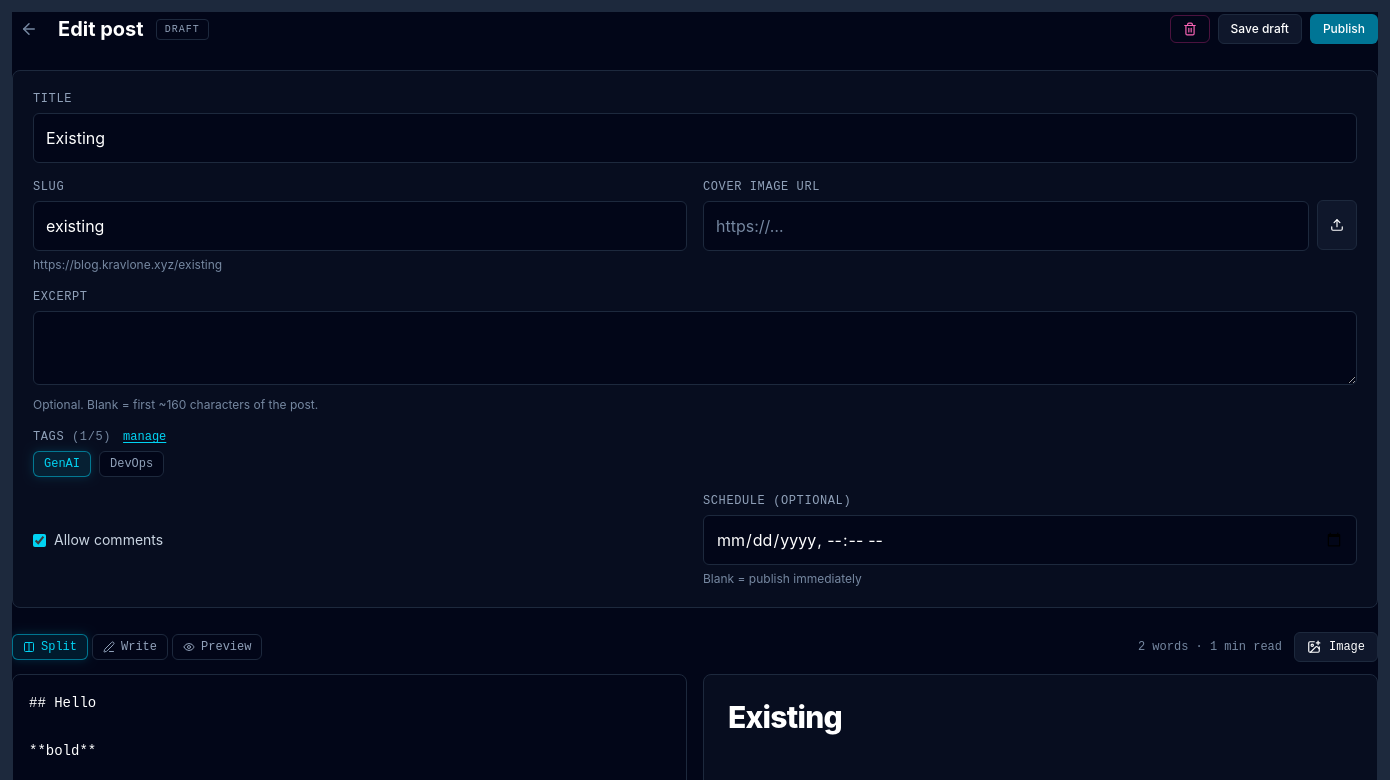
PostEditor › publish saves pending edits first, then publishes
Type "!" into the field labelled "Title". click: point(695, 138)
box: 33,113 -> 1357,163
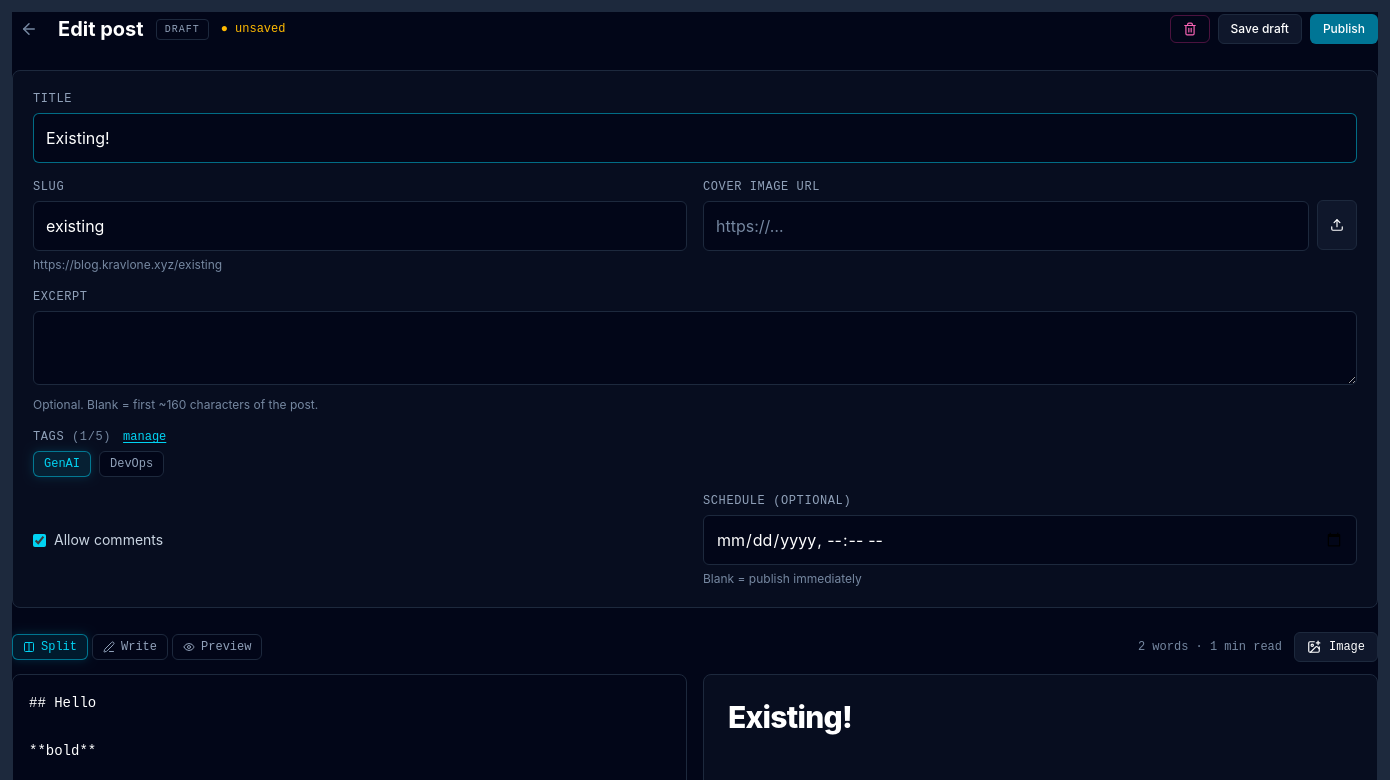
Click the button "Publish". click: point(1344, 29)
box: 1310,14 -> 1378,44
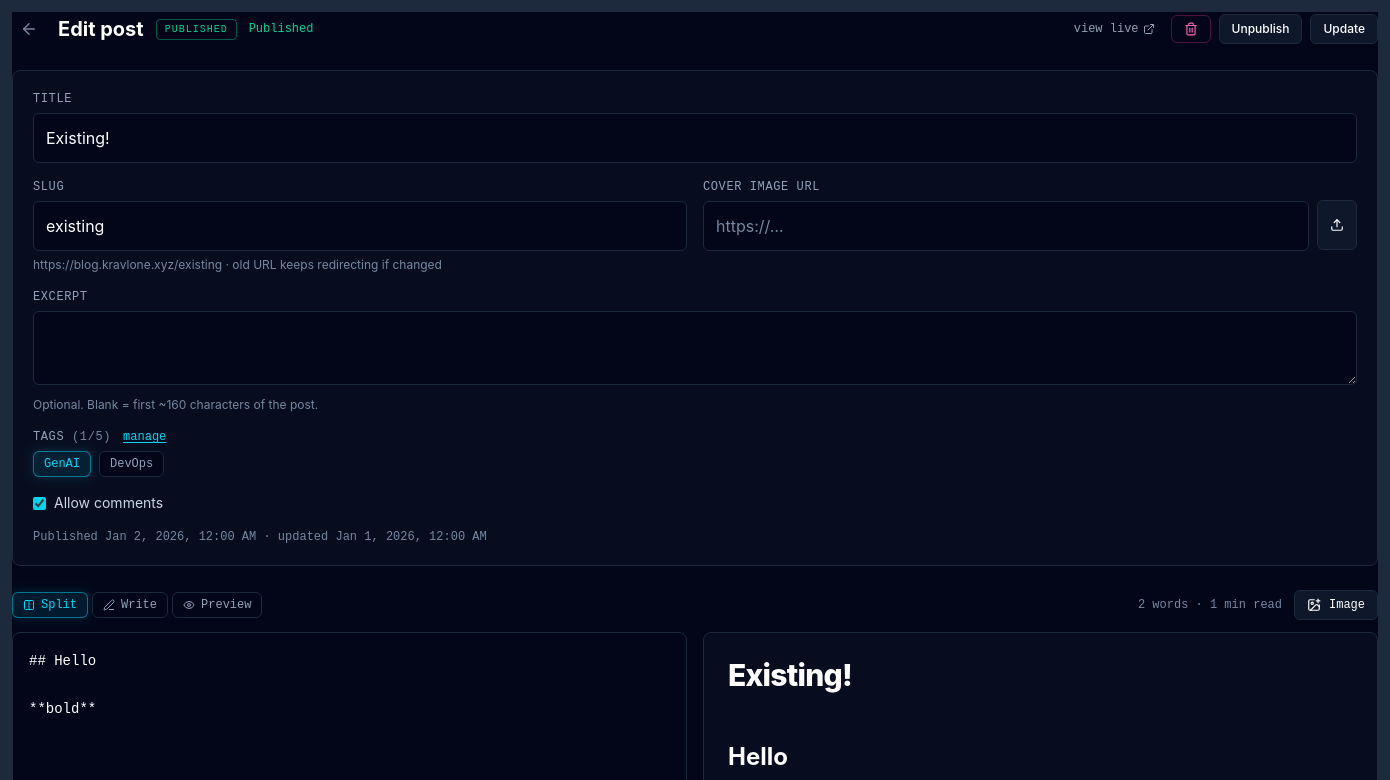
Expected: the button "Unpublish" is shown, 1218,14 -> 1302,44
